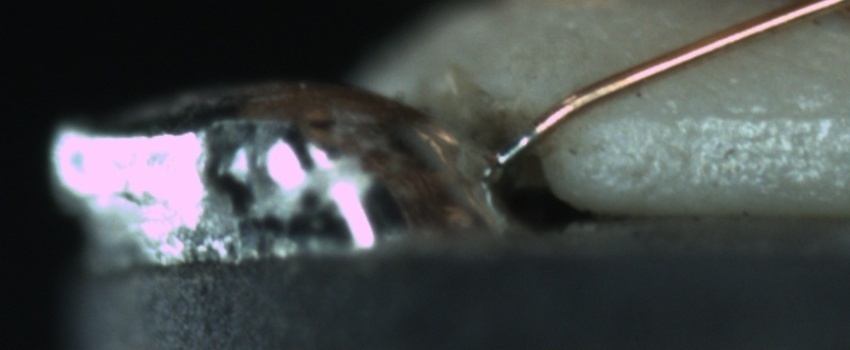CL: (769, 0, 849, 30)
DL: (621, 87, 850, 143)
TS: (499, 123, 539, 167)
